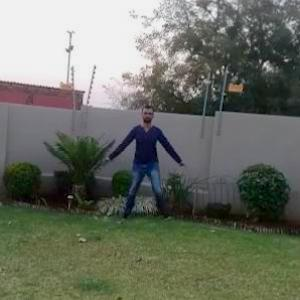land: (97, 101, 189, 224)
